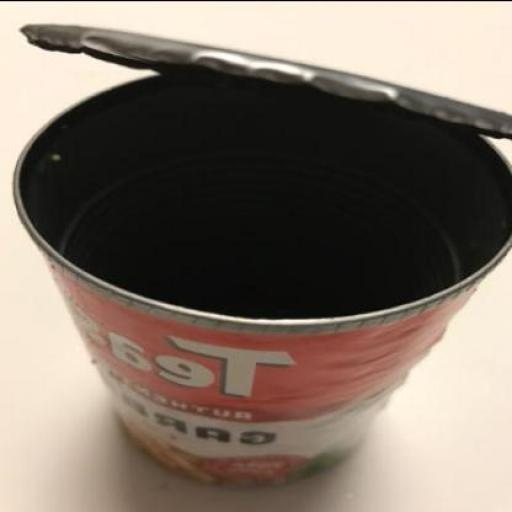metal: (11, 70, 511, 485), (17, 20, 511, 138)
